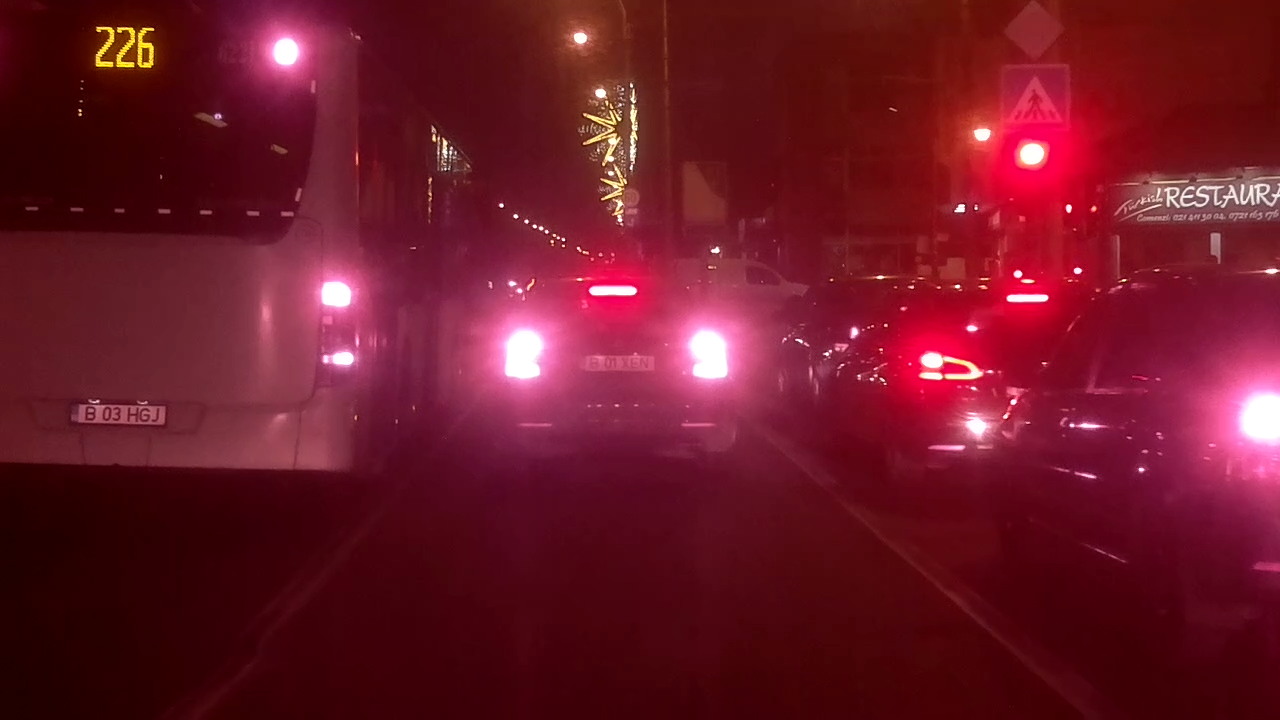license-plate: (64, 400, 170, 428), (578, 352, 658, 374)
